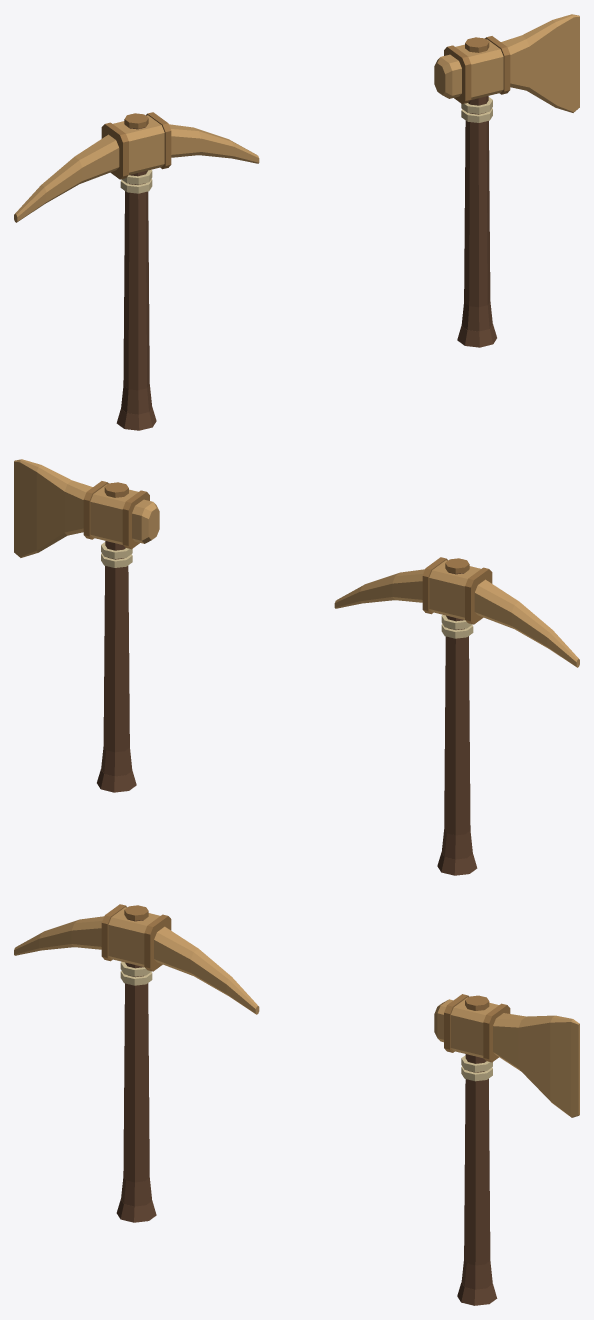
File: tools_wood.fbx
3 renders of one model, top to bottom at view 1: azimuth 30°, elevation 25°; view 2: azimuth 150°, elevation 25°; view 3: azimuth 330°, elevation 25°, orthographic.
Parts seen in each view (by area): view 1: axe_wood, pick_wood; view 2: axe_wood, pick_wood; view 3: axe_wood, pick_wood.
Boxes of the visible parts, box(x1,y1,x2,y2) form: axe_wood: box(434, 14, 579, 347); pick_wood: box(14, 112, 259, 430); axe_wood: box(14, 459, 159, 792); pick_wood: box(334, 557, 579, 875); axe_wood: box(434, 994, 579, 1305); pick_wood: box(14, 904, 259, 1222).
Bounding box in the file's own units: 6.62 × 3.41 × 0.43.
1 material, 1 textured.
